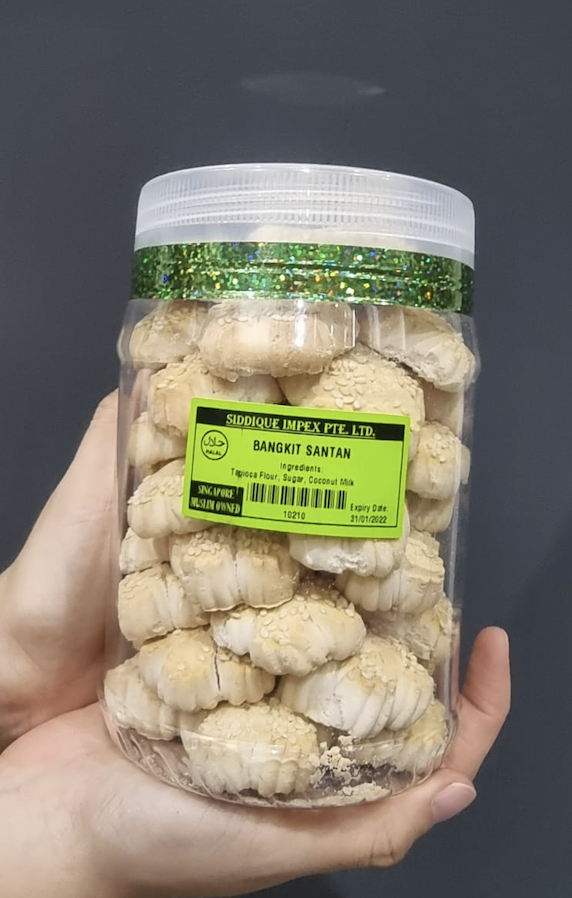Halal: (199, 429, 230, 455)
